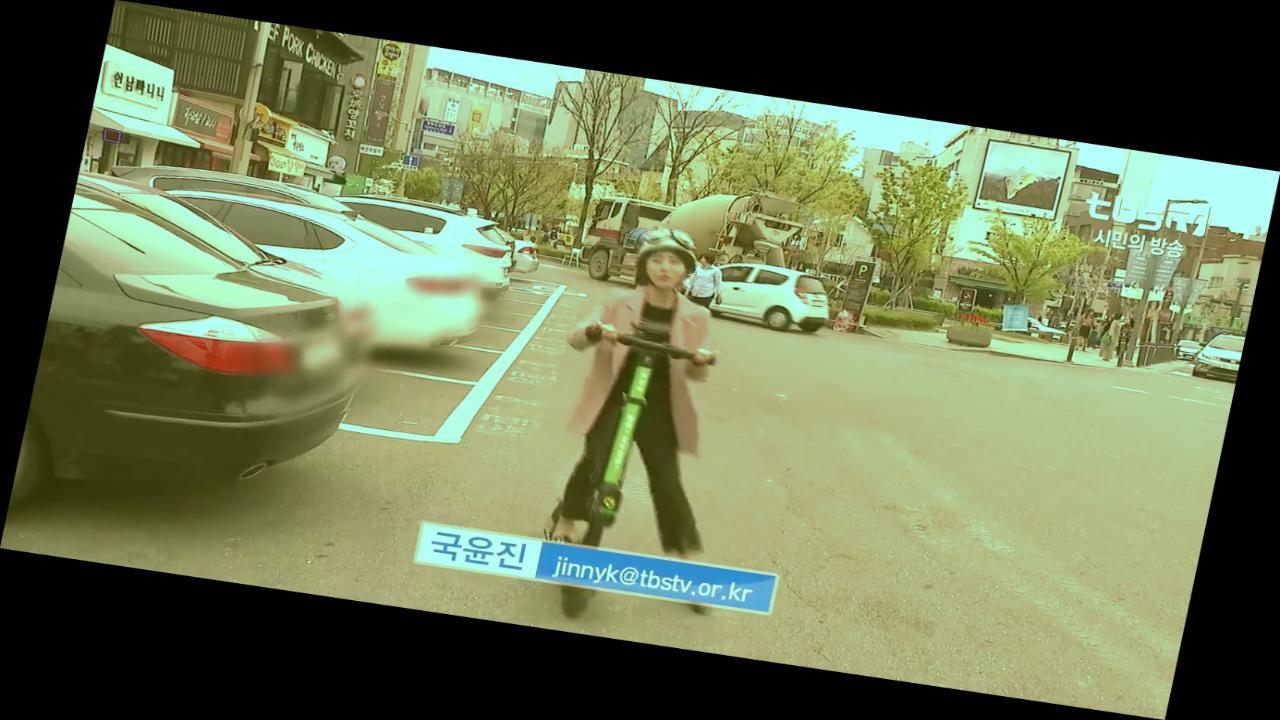helmet: (505, 217, 799, 643)
